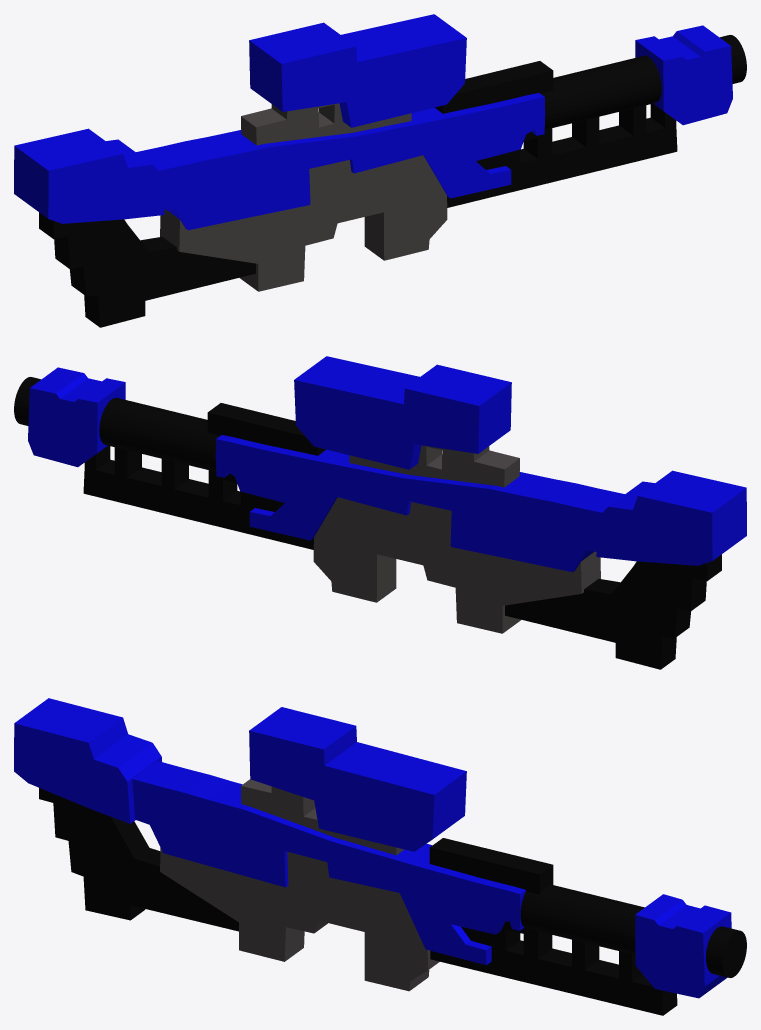
The model's file is Schoomer.fbx.
The picture shows the model from 3 angles, top to bottom: view 1: azimuth 30°, elevation 25°; view 2: azimuth 150°, elevation 25°; view 3: azimuth 330°, elevation 25°; orthographic projection.
Parts seen in each view (by area): view 1: Cube, Cube.007, Cube.004, Cube.001, Cube.003, Cube.005, Cube.002, Cylinder, Cube.008, Cube.006; view 2: Cube, Cube.007, Cube.004, Cube.001, Cube.003, Cube.005, Cube.002, Cylinder, Cube.008, Cube.006; view 3: Cube, Cube.007, Cube.004, Cube.003, Cube.001, Cube.005, Cylinder, Cube.002, Cube.006, Cube.008.
Boxes of the visible parts, left/top/right/bottom form: Cube: left=136, top=93, right=545, bottom=230; Cube.007: left=249, top=14, right=466, bottom=127; Cube.004: left=160, top=155, right=447, bottom=291; Cube.001: left=39, top=212, right=255, bottom=327; Cube.003: left=14, top=128, right=164, bottom=223; Cube.005: left=447, top=103, right=677, bottom=207; Cube.002: left=635, top=25, right=732, bottom=125; Cylinder: left=541, top=35, right=746, bottom=129; Cube.008: left=241, top=103, right=411, bottom=145; Cube.006: left=435, top=61, right=553, bottom=113; Cube: left=215, top=435, right=624, bottom=572; Cube.007: left=294, top=356, right=511, bottom=469; Cube.004: left=313, top=497, right=600, bottom=633; Cube.001: left=505, top=554, right=721, bottom=669; Cube.003: left=596, top=470, right=746, bottom=565; Cube.005: left=83, top=445, right=313, bottom=549; Cube.002: left=28, top=367, right=125, bottom=467; Cylinder: left=14, top=377, right=219, bottom=471; Cube.008: left=349, top=445, right=519, bottom=487; Cube.006: left=207, top=403, right=325, bottom=455; Cube: left=132, top=761, right=525, bottom=965; Cube.007: left=249, top=707, right=466, bottom=851; Cube.004: left=160, top=847, right=439, bottom=991; Cube.003: left=14, top=698, right=161, bottom=823; Cube.001: left=39, top=788, right=238, bottom=931; Cube.005: left=430, top=921, right=677, bottom=1015; Cylinder: left=520, top=884, right=746, bottom=977; Cube.002: left=635, top=894, right=731, bottom=998; Cube.006: left=429, top=838, right=553, bottom=894; Cube.008: left=241, top=779, right=403, bottom=855.
Size of the model in its own units: 1644 by 511 by 139.
